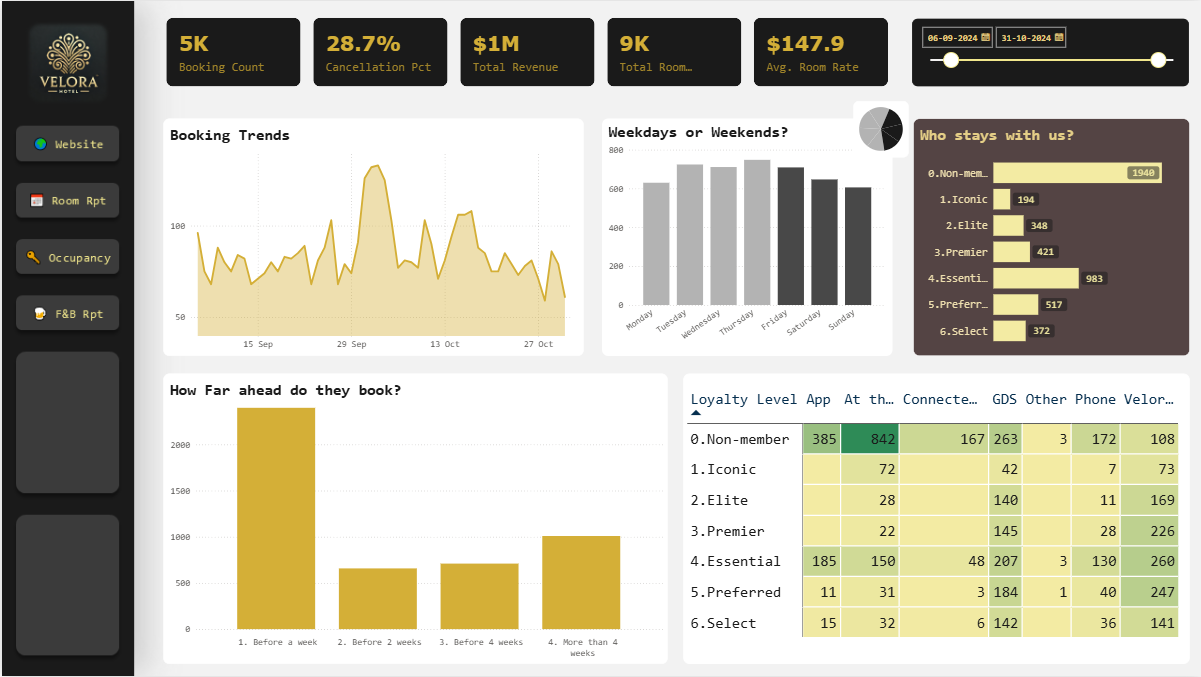

The dashboard page shown, as its layout file describes it:
{"tool":"powerbi","page":{"name":"Bookings Report ","canvas":[1920,1080],"ordinal":0},"visuals":[{"type":"cardVisual","fields":{"Data":["bookings.Booking Count","bookings.Cancellation Pct","bookings.Total Revenue","bookings.Total Room Nights","bookings.Avg. Room Rate"]},"box":[258,22,1168,120],"z":0},{"type":"lineChart","title":"Booking Trends","fields":{"Category":["bookings.Stay Date"],"Y":["bookings.Booking Count"]},"box":[257.5,187.5,672.5,380],"z":1000},{"type":"slicer","fields":{"Values":["bookings.Stay Date"]},"box":[1456.9,27.7,443.1,108.5],"z":2000},{"type":"clusteredColumnChart","title":"Weekdays or Weekends?","fields":{"Category":["bookings.Day Name"],"Y":["bookings.Booking Count"]},"box":[960,187.5,465,380],"z":3000},{"type":"clusteredBarChart","title":"Who stays with us?","fields":{"Category":["bookings.Loyalty Level"],"Y":["bookings.Booking Count"]},"box":[1457.5,187.5,442.5,380],"z":4000},{"type":"clusteredColumnChart","title":"How Far ahead do they book?","fields":{"Y":["bookings.Booking Count"],"Category":["bookings.How far away bucket"]},"box":[257.5,595,807.5,465],"z":5000},{"type":"pivotTable","fields":{"Rows":["bookings.Loyalty Level"],"Columns":["bookings.Booking Channel"],"Values":["bookings.Booking Count"]},"box":[1090,595,810,465],"z":6000},{"type":"pieChart","fields":{"Y":["bookings.Booking Count"],"Category":["bookings.Day Name"]},"box":[1362,159,89,90],"z":7000}]}

Visuals, with their boxes in screenshot pixels (x1, y1, x2, y2):
cardVisual - bookings.Booking Count x bookings.Cancellation Pct: (left=132, top=13, right=827, bottom=84)
"Booking Trends" lineChart: (left=131, top=112, right=531, bottom=338)
slicer - bookings.Stay Date: (left=845, top=16, right=1109, bottom=81)
"Weekdays or Weekends?" clusteredColumnChart: (left=549, top=112, right=826, bottom=338)
"Who stays with us?" clusteredBarChart: (left=845, top=112, right=1109, bottom=338)
"How Far ahead do they book?" clusteredColumnChart: (left=131, top=354, right=612, bottom=631)
pivotTable - bookings.Loyalty Level x bookings.Booking Channel: (left=627, top=354, right=1109, bottom=631)
pieChart - bookings.Booking Count x bookings.Day Name: (left=789, top=95, right=841, bottom=148)
